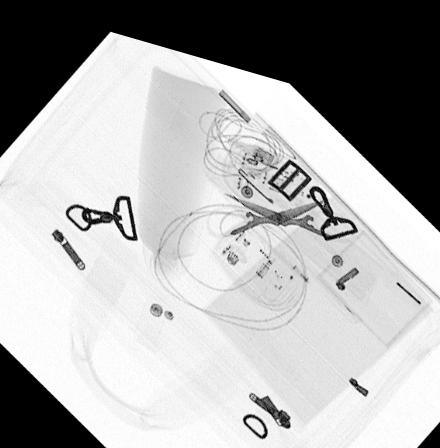Scissors: (202, 177, 360, 226)
